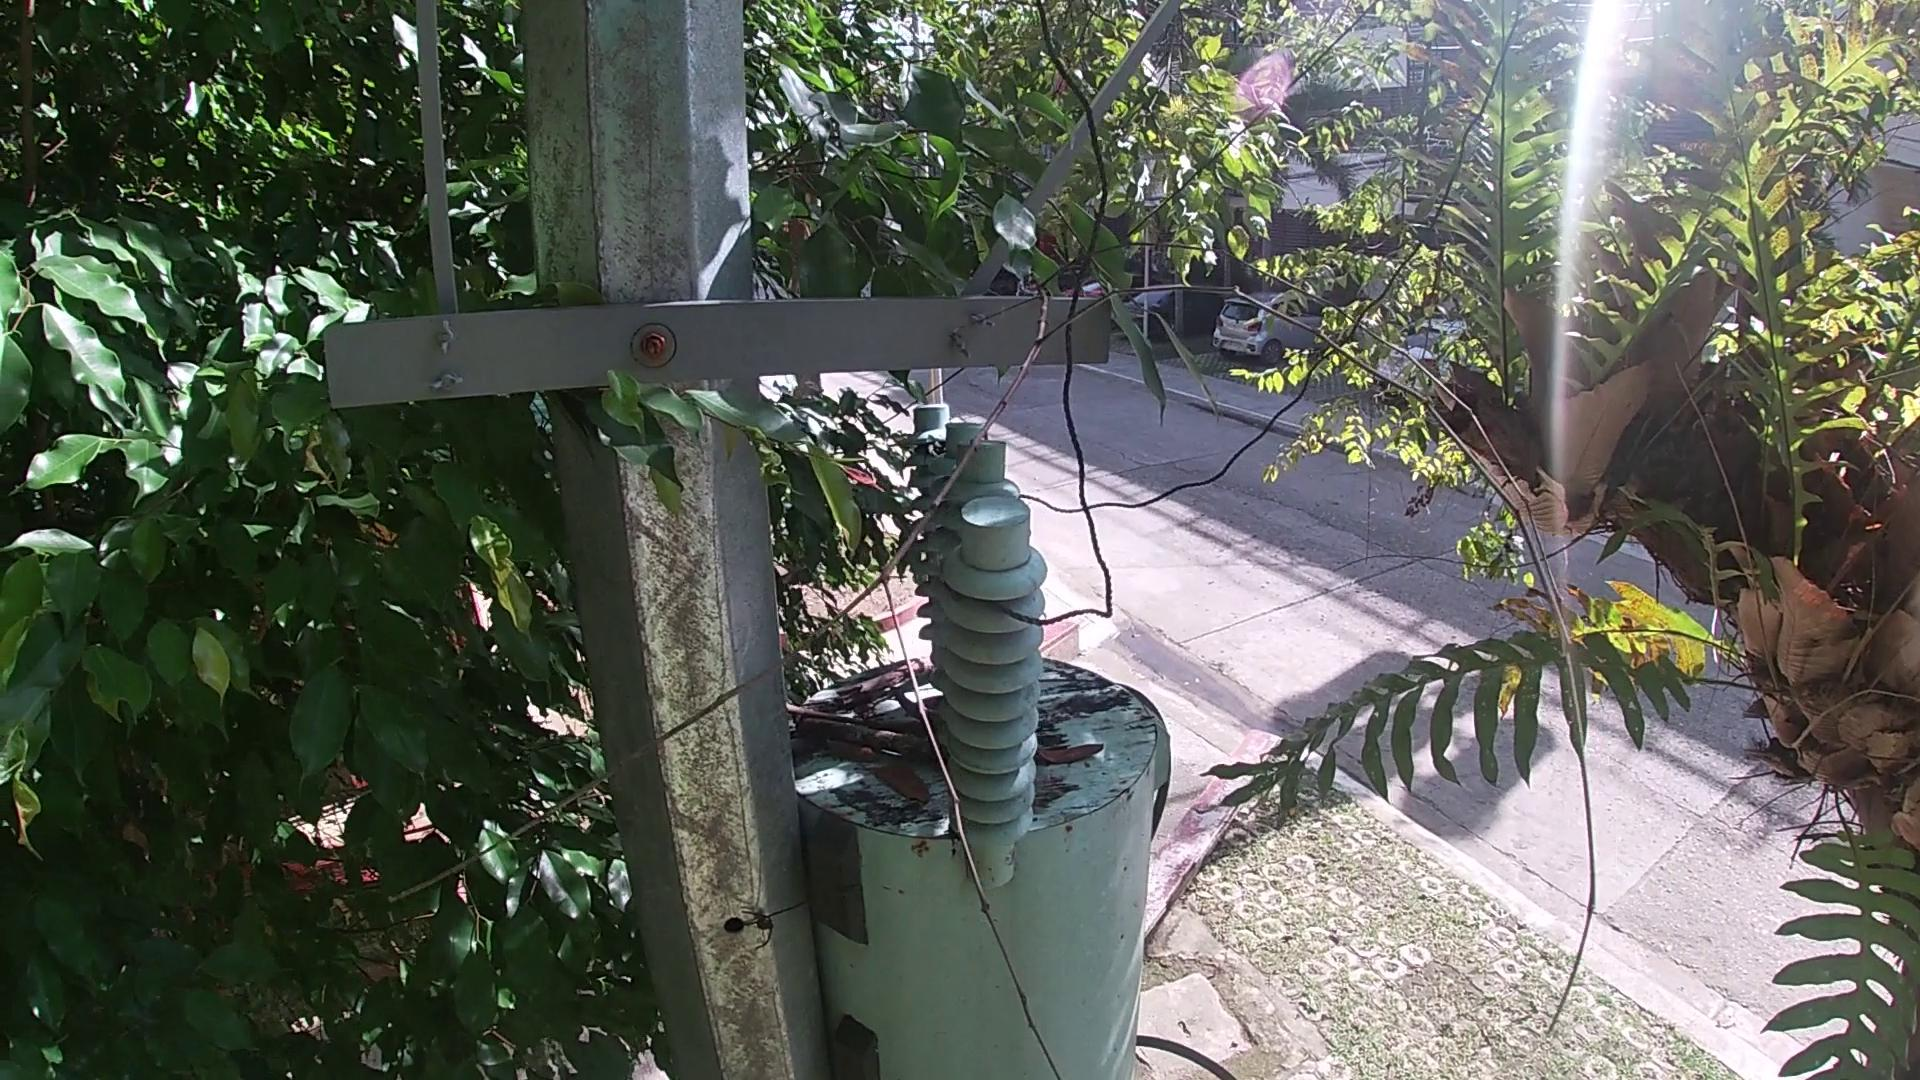leaf: (852, 761, 934, 807), (1034, 741, 1109, 769), (823, 736, 880, 765)
tree branch: (382, 228, 1613, 1077), (787, 709, 952, 767), (832, 655, 936, 719)
